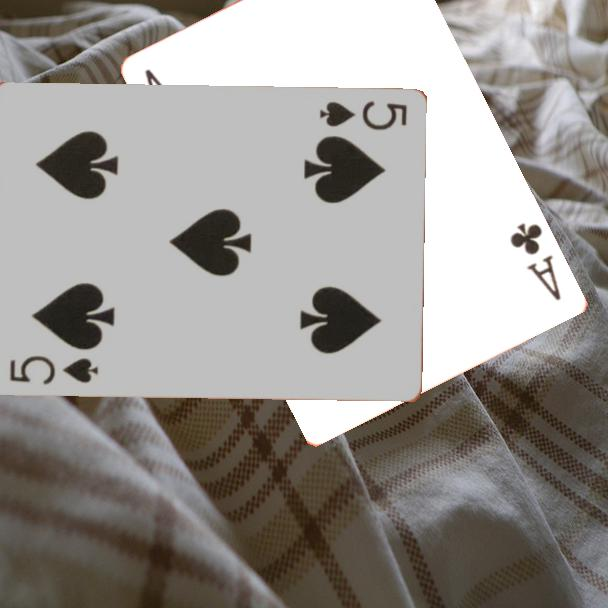c01: (507, 220, 565, 304)
s05: (316, 97, 410, 134), (6, 352, 101, 388)
